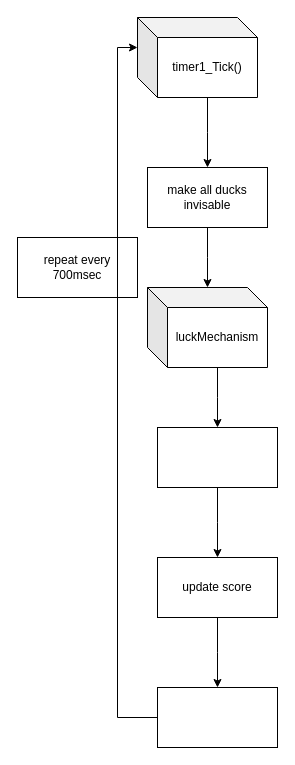
Some shapes in this 295 by 765 pixel diagram are drawn without their labels. Each missing label, with the centre of its shape:
check against current score whether resizing needed: point (217, 717)
update time: point (217, 457)
